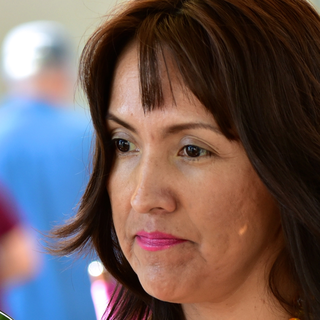eye: (172, 139, 219, 165), (108, 131, 142, 158)
